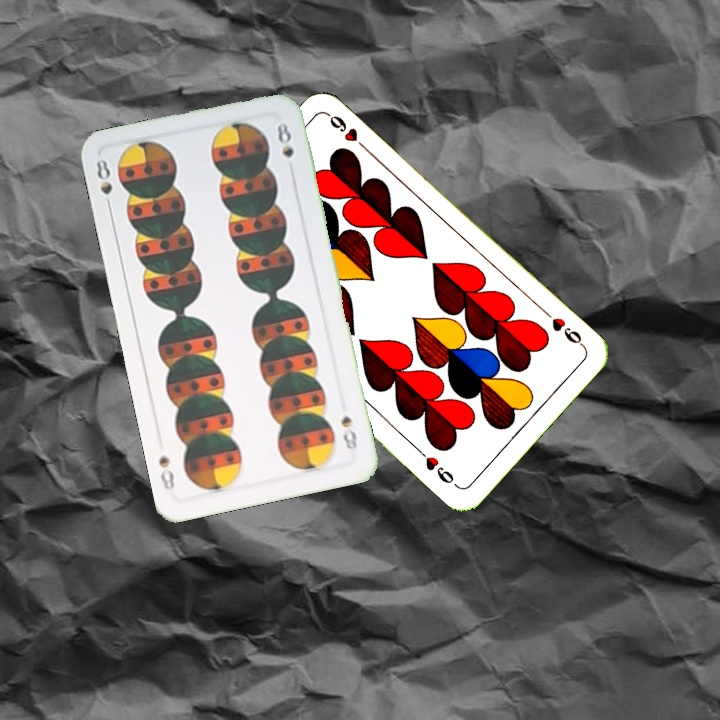H9: (539, 306, 588, 350)
S8: (92, 154, 115, 214), (337, 411, 360, 455)
